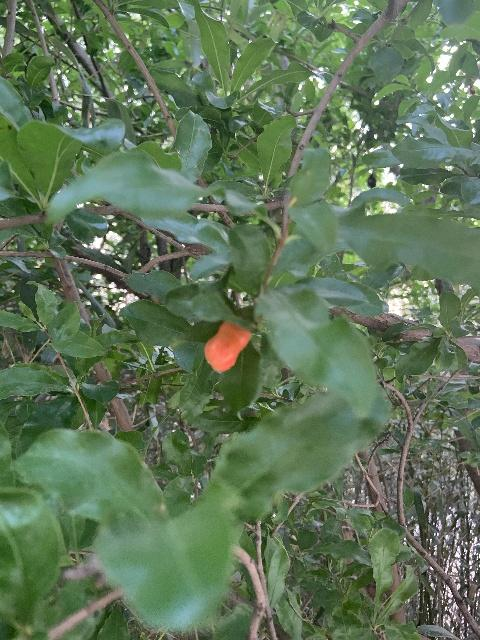bud: (204, 322, 251, 372)
